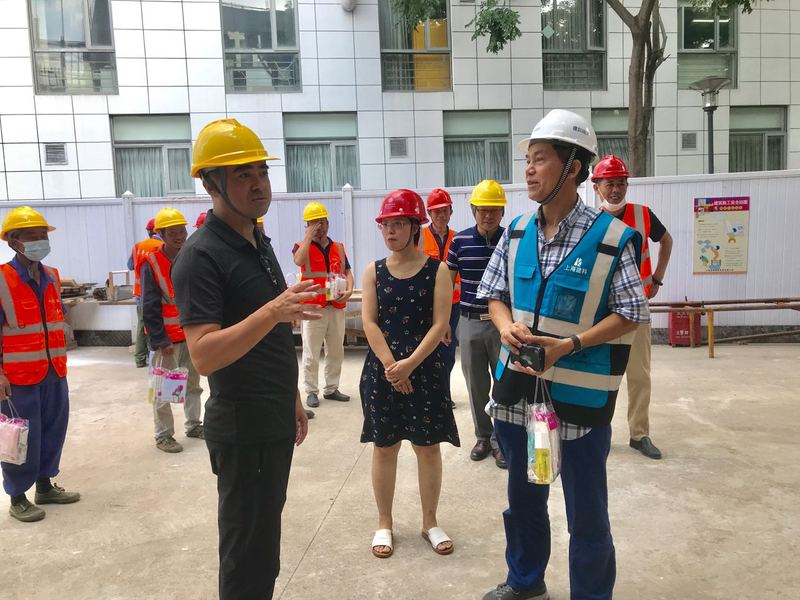safetyhat: (143, 121, 323, 576), (471, 96, 632, 559), (355, 187, 453, 518), (1, 197, 104, 500)
